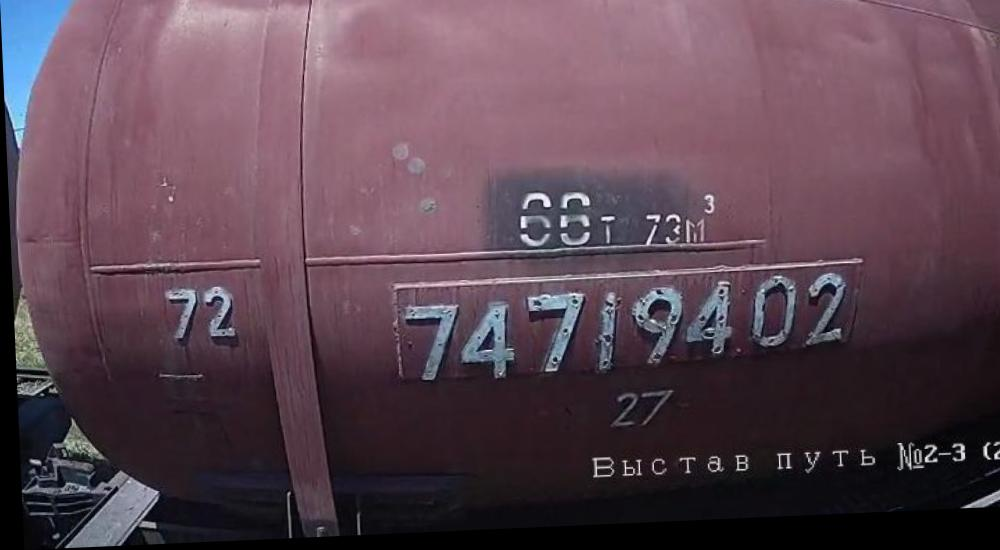Wagon-number: (398, 272, 853, 389)
